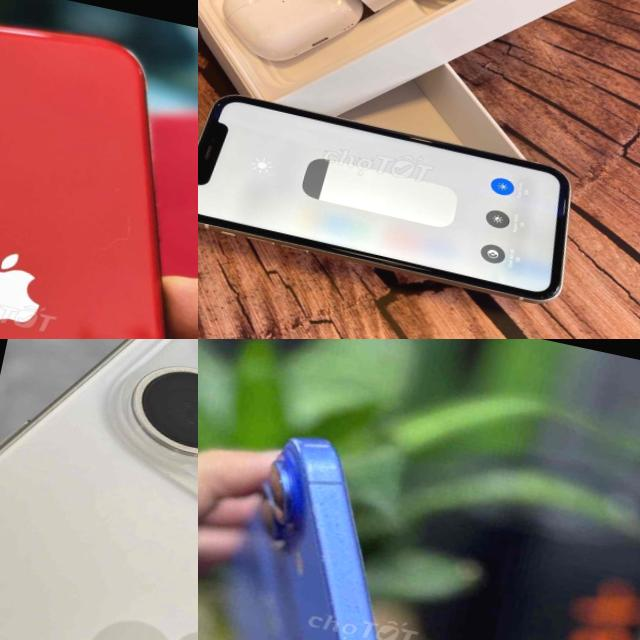scratch: (268, 483, 415, 640)
